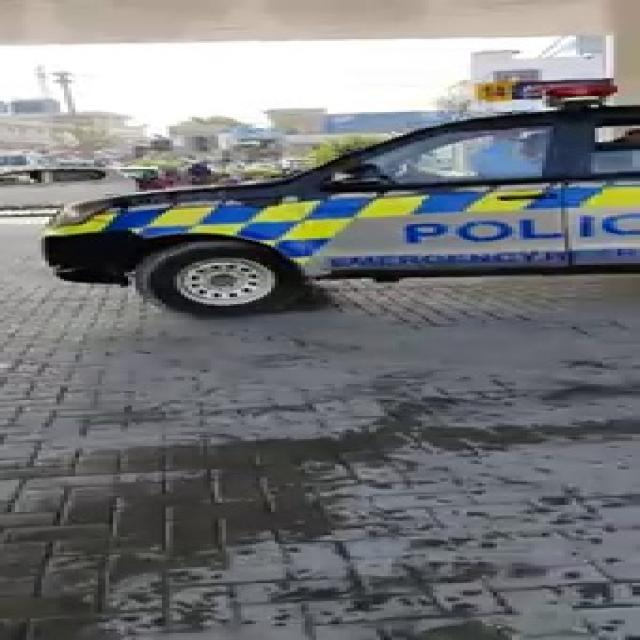police: (22, 54, 640, 308)
